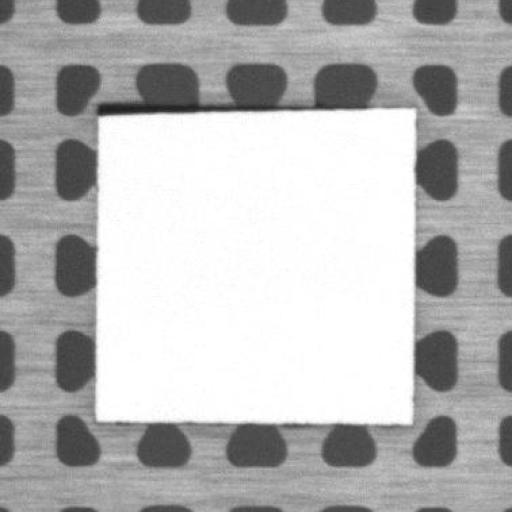DIE_BROKEN: (94, 98, 368, 119)
